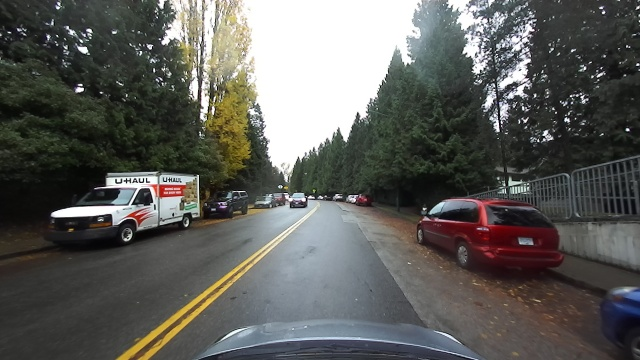car: (44, 169, 203, 250), (416, 194, 566, 275), (203, 186, 250, 217), (287, 192, 309, 209), (253, 197, 276, 209), (356, 193, 373, 206), (275, 193, 286, 205), (345, 193, 355, 204), (332, 193, 344, 202), (307, 194, 315, 201), (323, 195, 330, 201), (316, 195, 323, 200)
